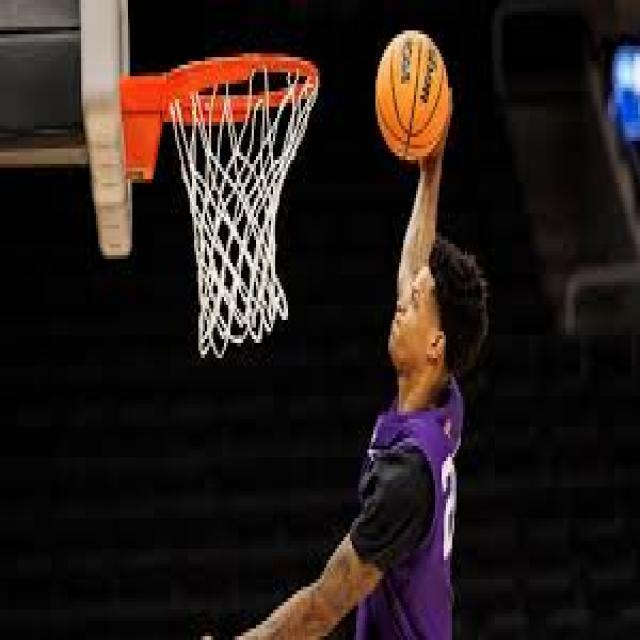hoop: (124, 43, 358, 375)
